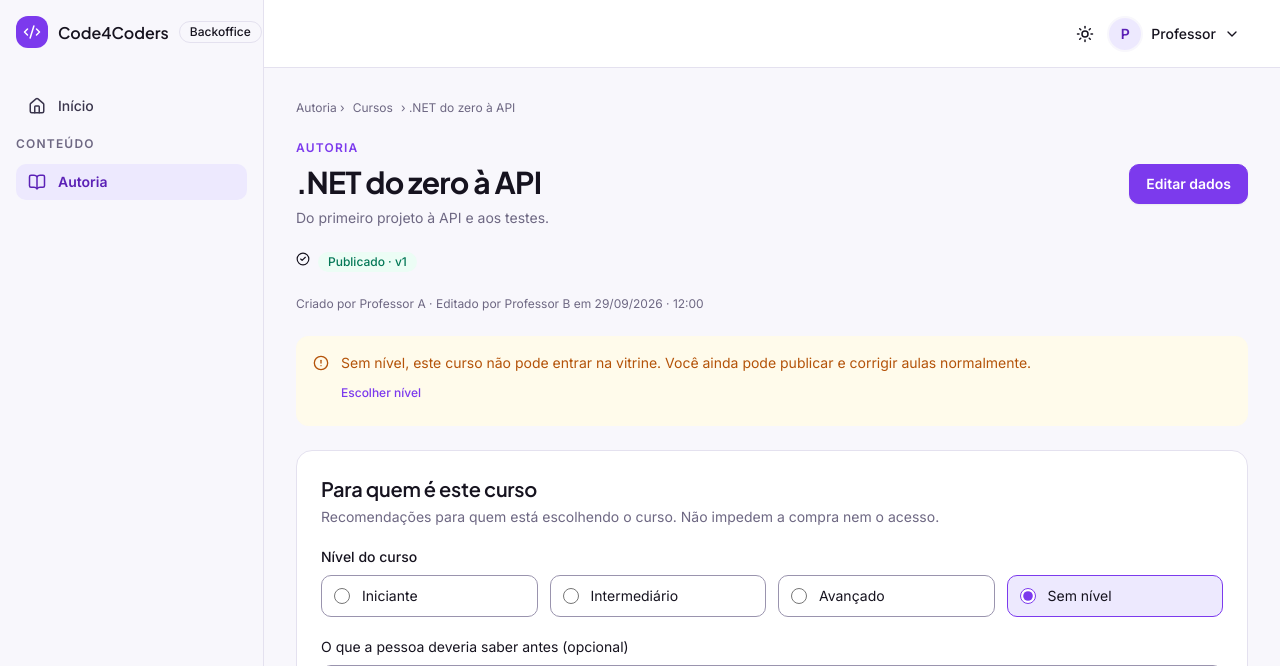
Test: authoring course level › saves each level and clears it, using confirmed drafts, intent keys and csrf
Expected: the element "Nível do curso" is shown, [321,547,1223,617]
Click the radio button labelled "Iniciante" at {"x": 342, "y": 596}, box [334,588,350,604]
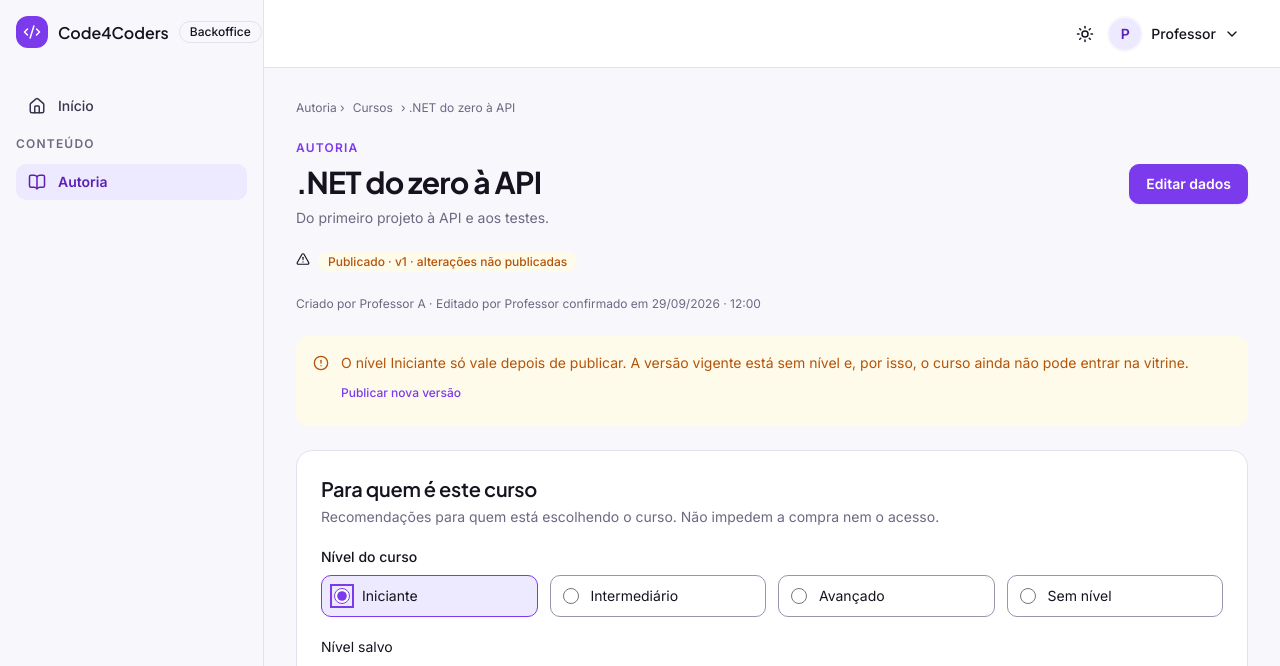
Expected: the text "Nível salvo" is shown, [321,638,393,655]
Click the radio button labelled "Intermediário" at {"x": 570, "y": 596}, box [562,588,578,604]
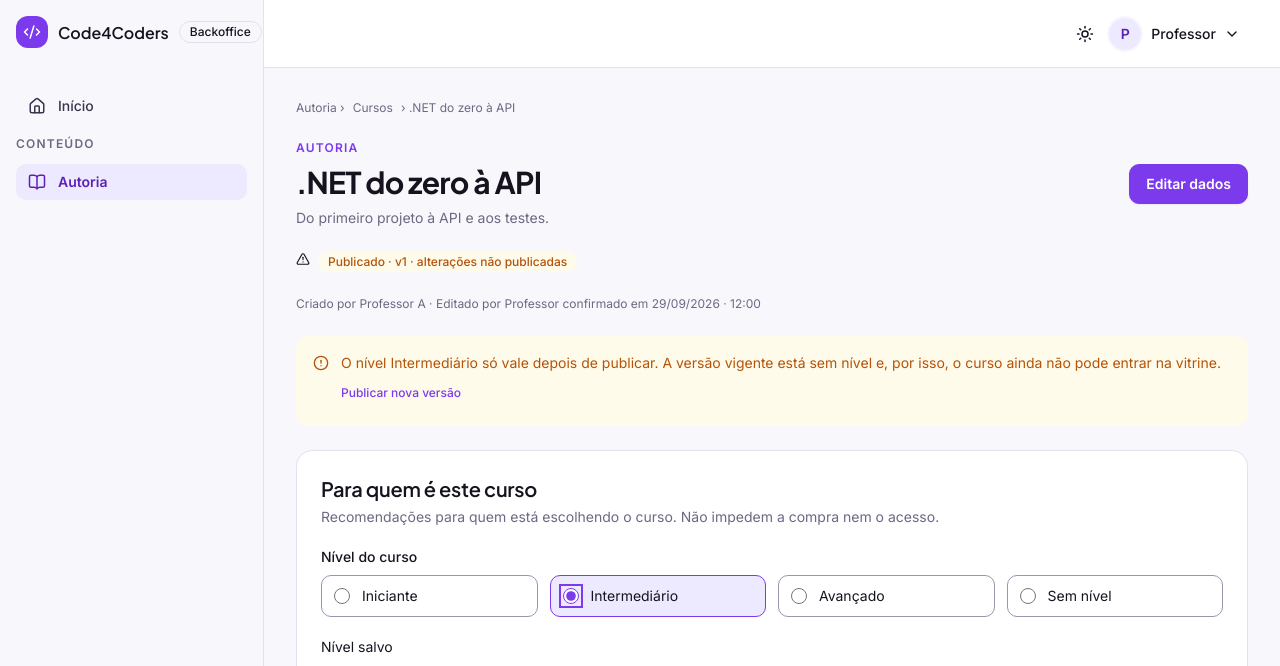
Expected: the text "Nível salvo" is shown, [321,638,393,655]
Click the radio button labelled "Avançado" at {"x": 799, "y": 596}, box [791,588,807,604]
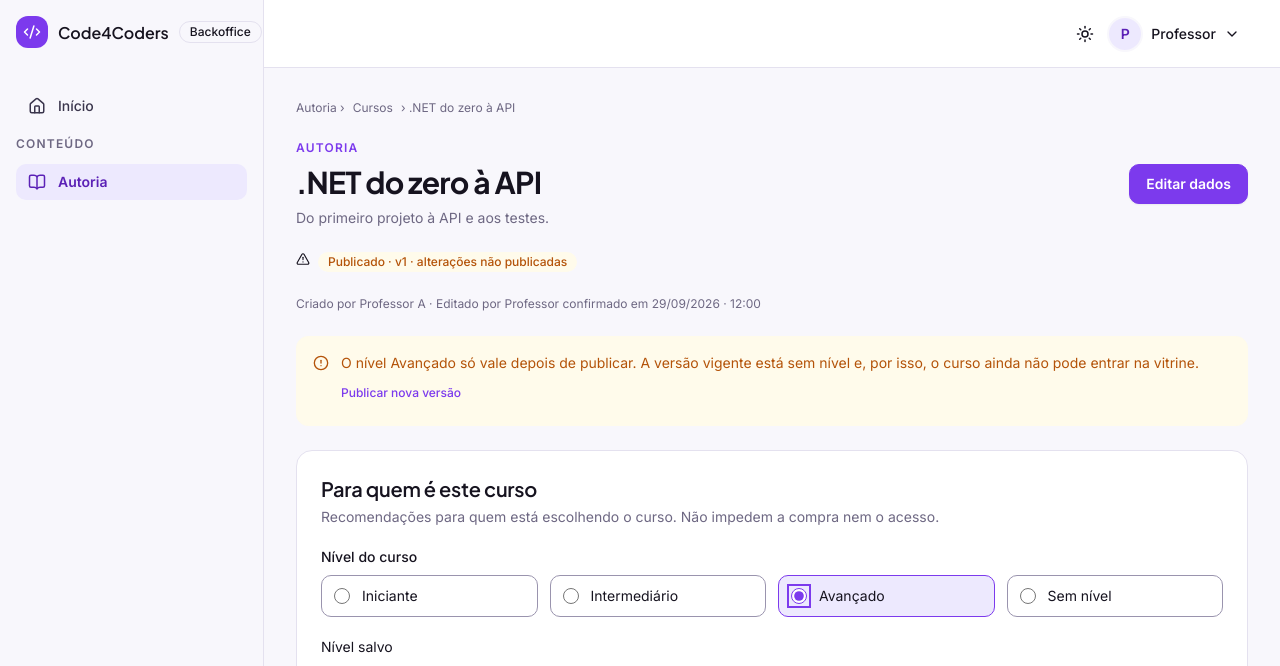
Expected: the text "Nível salvo" is shown, [321,638,393,655]
Click the radio button labelled "Sem nível" at {"x": 1028, "y": 596}, box [1020,588,1036,604]
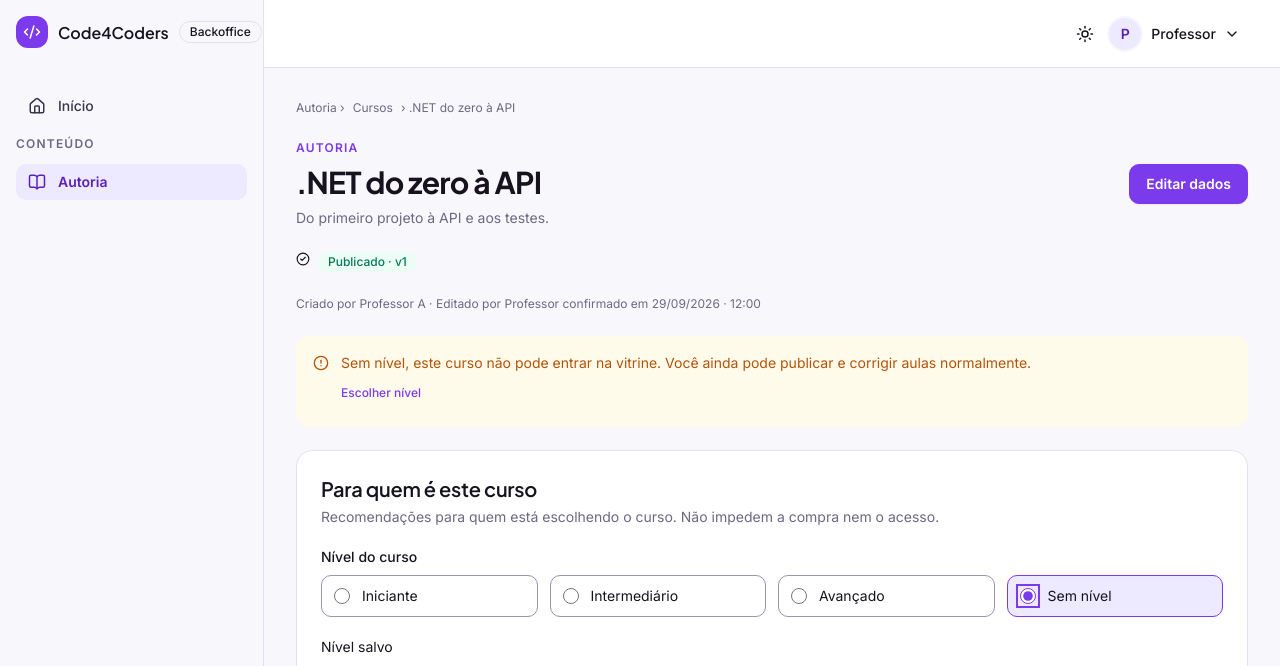
Expected: the text "Nível salvo" is shown, [321,638,393,655]
Expected: the text "Editado por Professor confirmado" is shown, [296,296,761,311]
Expected: the text "alterações não publicadas" is gone
